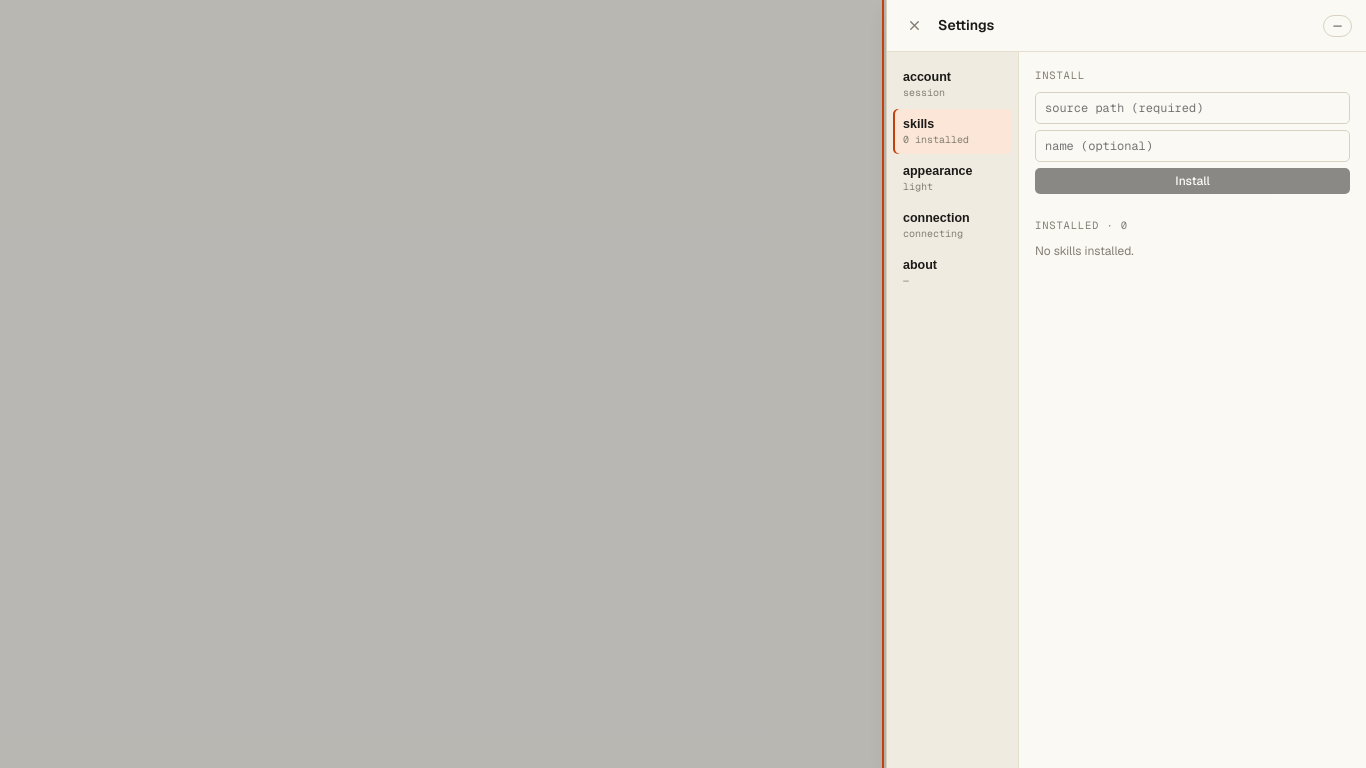
Settings skills panel shows what the daemon said (tether#161) › shows why an install was refused
Expected: the text "Installed · 0" is shown, [1035,218,1128,232]
In the field with placeholder "source path (required)": (1192, 108) [1035,92,1350,124], type "relative/skills/thing"
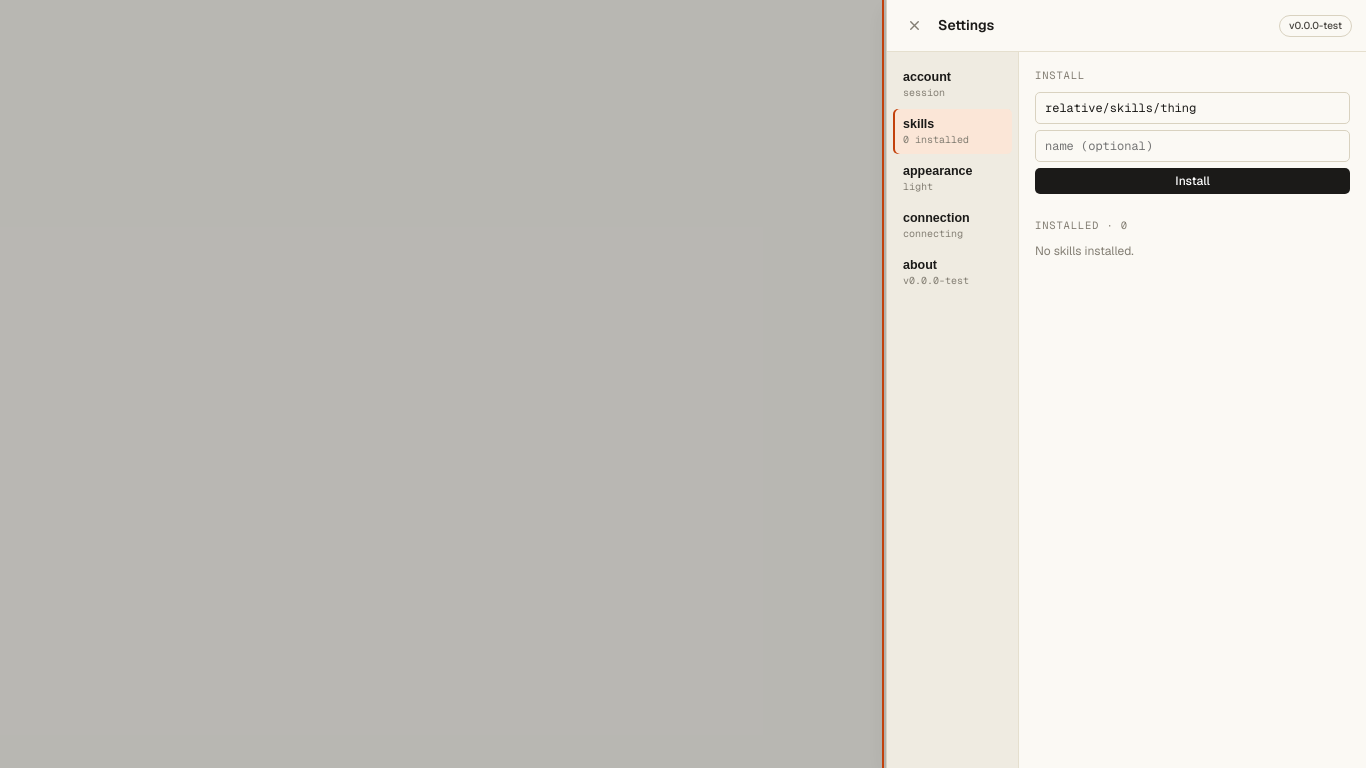
Note: By role: "Install" is also the section heading above the form.
Click the button "Install": (1192, 181) [1035,168,1350,194]
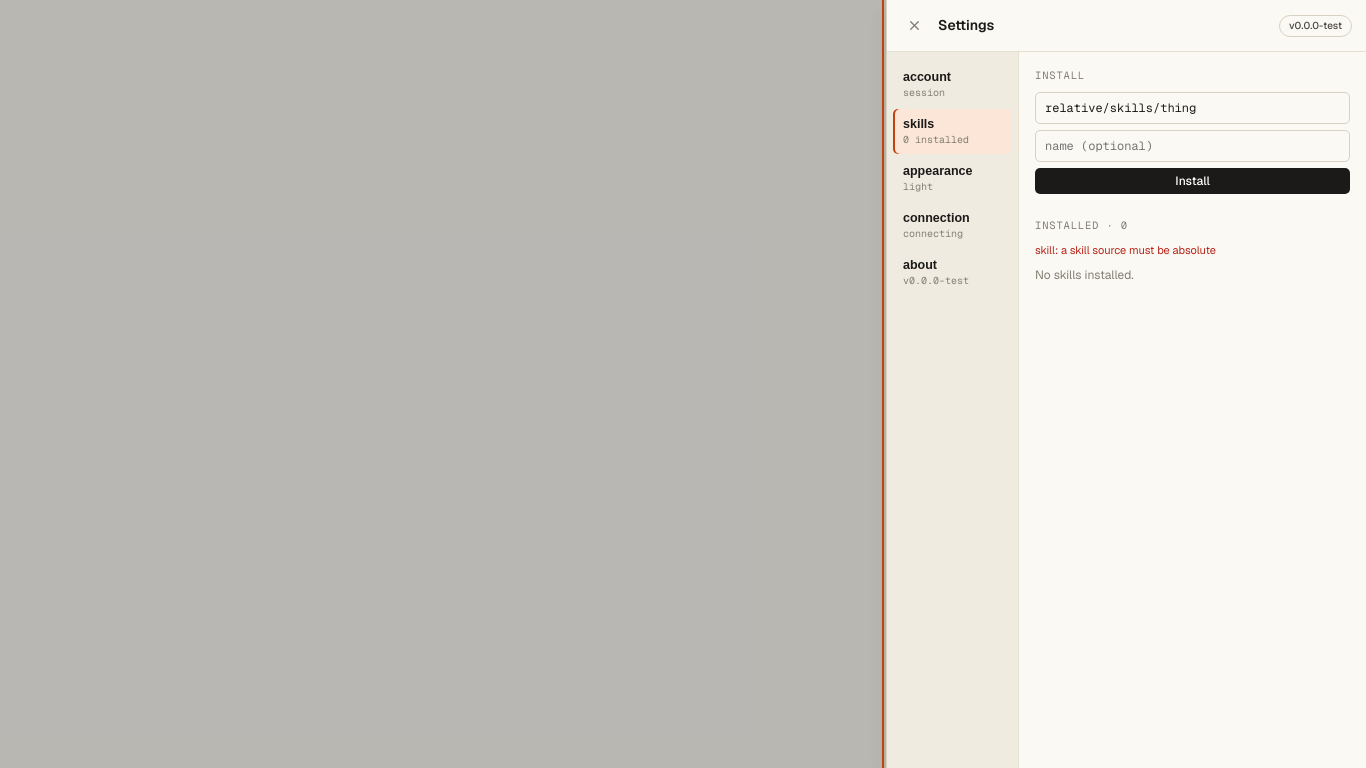
Result: the text "skill: a skill source must be absolute" is shown at [1035,242,1216,256]
